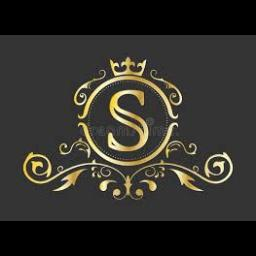s: (104, 84, 150, 154)
